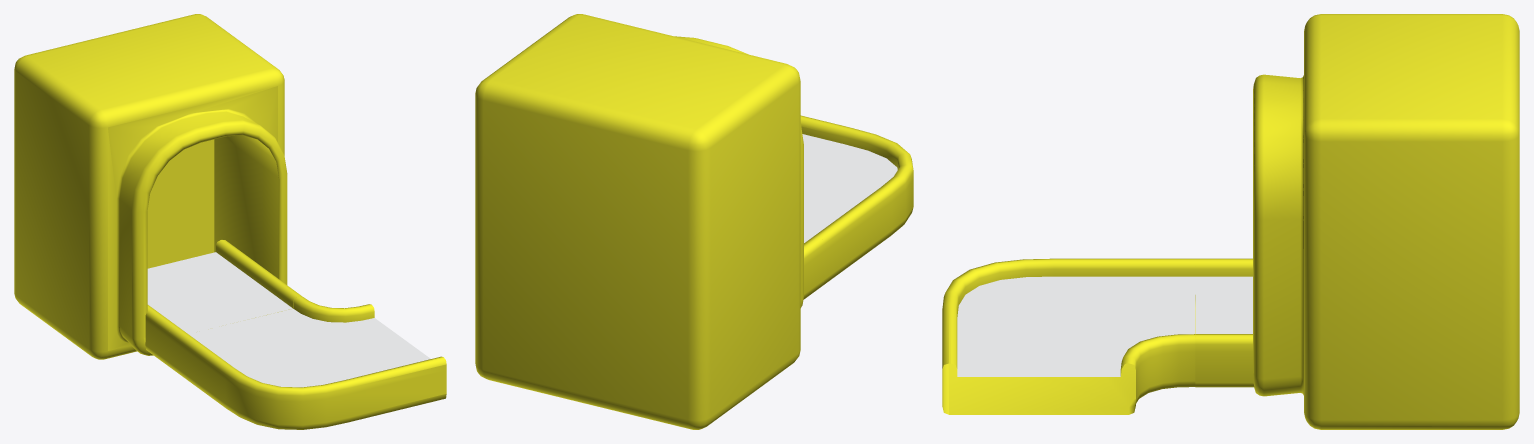
Rendered from ProductBelt-Yellow.fbx.
The picture shows the model from 3 angles, left to right: view 1: azimuth 30°, elevation 25°; view 2: azimuth 150°, elevation 25°; view 3: azimuth 270°, elevation 25°; orthographic projection. The views are drawn at different scales.
Parts seen in each view (by area): view 1: ProductBelt-Yellow, L-path.004, I-path.004; view 2: ProductBelt-Yellow, L-path.004, I-path.004; view 3: ProductBelt-Yellow, L-path.004, I-path.004.
Part boxes in pixels (left/top/right/bottom): ProductBelt-Yellow: left=14, top=14, right=287, bottom=359; L-path.004: left=169, top=296, right=446, bottom=429; I-path.004: left=145, top=240, right=301, bottom=366; ProductBelt-Yellow: left=475, top=14, right=803, bottom=429; L-path.004: left=800, top=115, right=913, bottom=285; I-path.004: left=803, top=236, right=823, bottom=299; ProductBelt-Yellow: left=1253, top=14, right=1519, bottom=429; L-path.004: left=942, top=258, right=1195, bottom=414; I-path.004: left=1195, top=258, right=1254, bottom=387.
Bounding box in the file's own units: 137 × 158 × 268.
